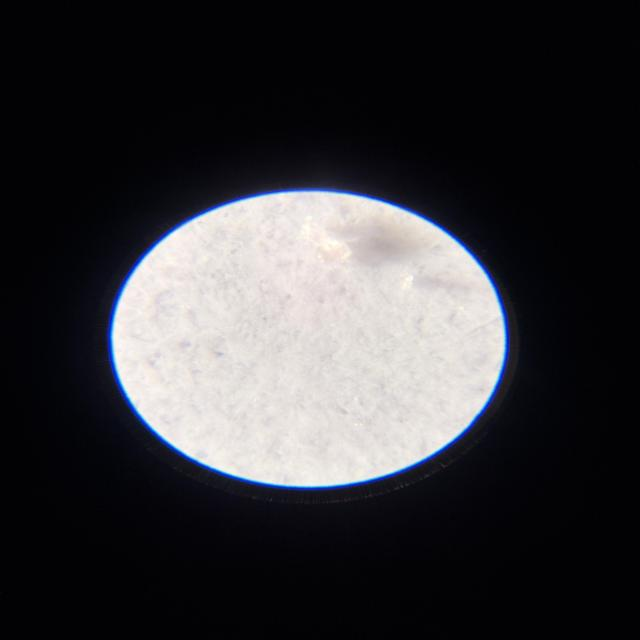microplastic_type_1: (296, 218, 353, 267)
